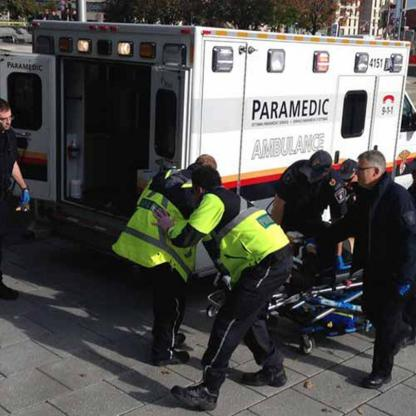face: (356, 162, 376, 187), (309, 161, 327, 181), (343, 175, 358, 191), (1, 112, 13, 131), (193, 183, 204, 203)
